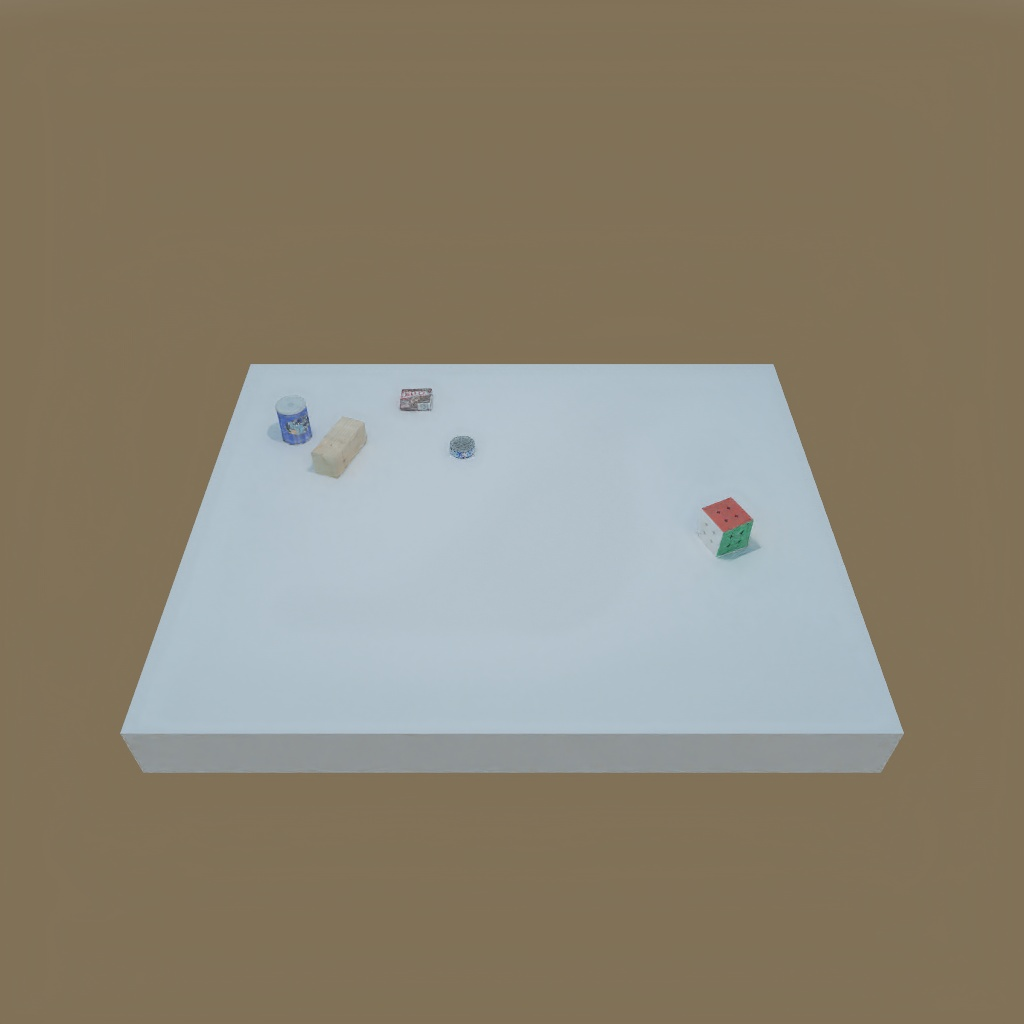master_chef_can: (272, 402, 315, 449)
pudding_box: (400, 385, 439, 411)
rubiks_cube: (692, 494, 756, 560)
wood_block: (315, 423, 363, 478)
